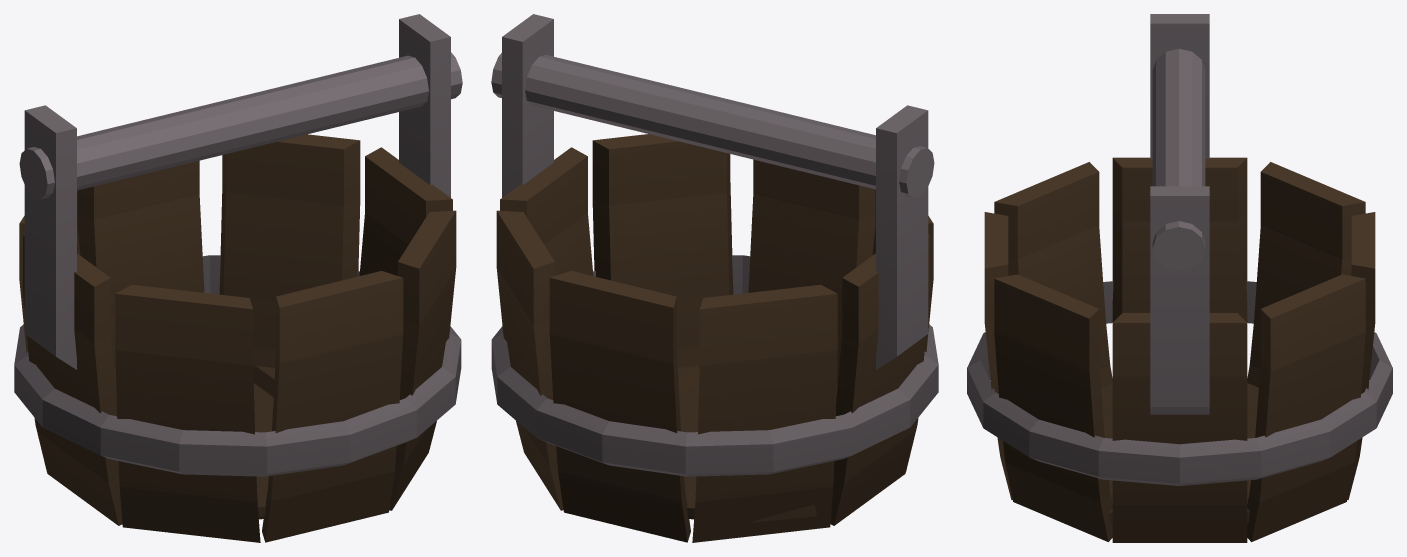
Rendered from bucket.glb.
3 renders of one model, left to right at view 1: azimuth 30°, elevation 25°; view 2: azimuth 150°, elevation 25°; view 3: azimuth 270°, elevation 25°, orthographic. The views are drawn at different scales.
Size of the model in its own units: 0.7596 by 0.6795 by 0.7147.
